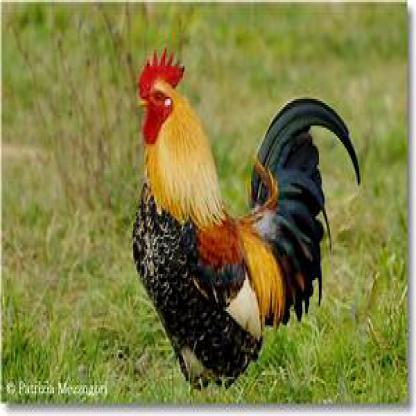chicken: (132, 46, 363, 398)
